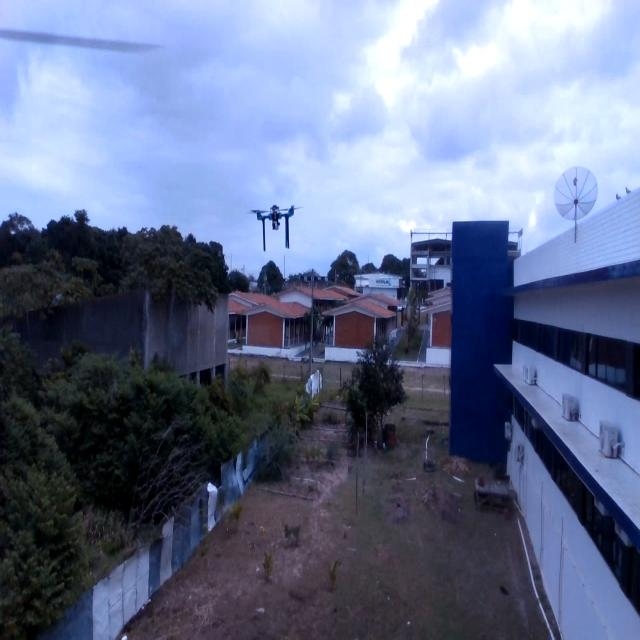-uav-: (241, 194, 304, 256)
